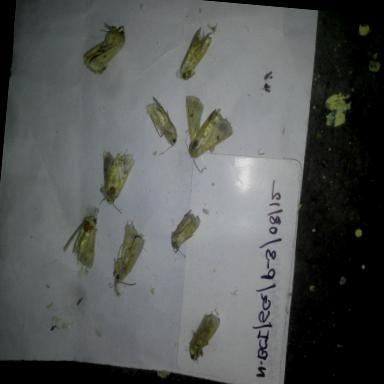abw: (176, 92, 240, 179), (104, 218, 149, 304), (93, 146, 138, 219), (172, 18, 218, 88), (78, 18, 128, 82), (138, 92, 182, 161), (60, 208, 100, 275), (184, 304, 224, 370), (164, 208, 204, 260)
